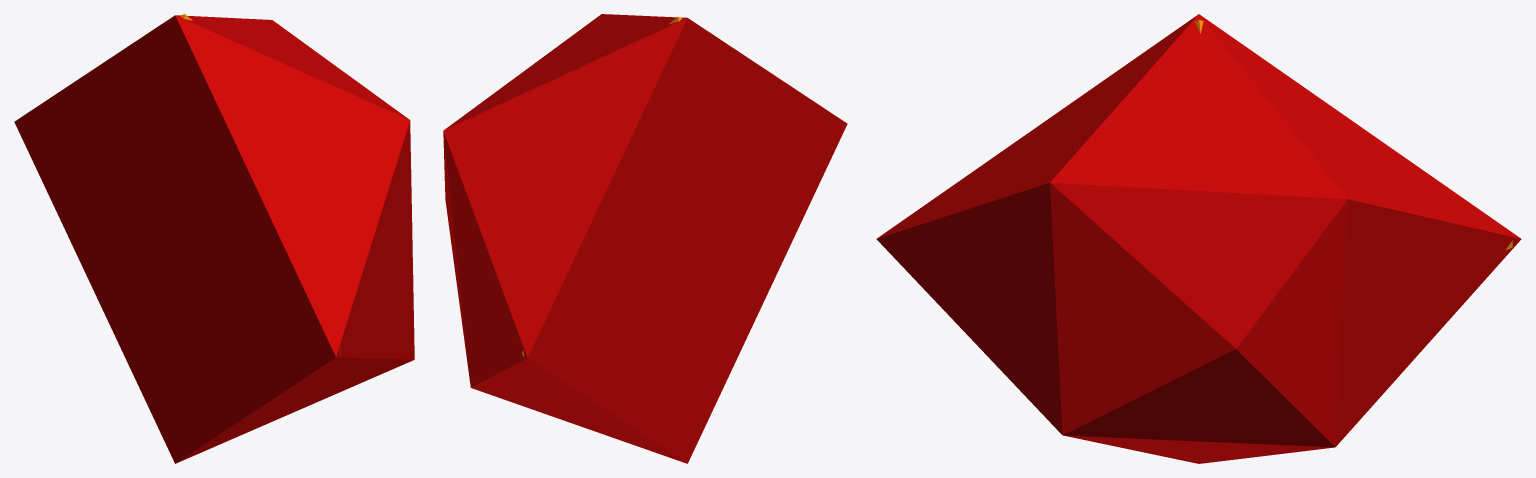
The model's file is prism_half.glb.
3 views of the same model, side by side, from view 1: azimuth 30°, elevation 25°; view 2: azimuth 150°, elevation 25°; view 3: azimuth 270°, elevation 25° (orthographic).
Parts seen in each view (by area): view 1: prism_half; view 2: prism_half; view 3: prism_half.
Boxes of the visible parts, x1,y1,x2,y2 form: prism_half: [14, 14, 414, 463]; prism_half: [443, 14, 847, 463]; prism_half: [876, 14, 1521, 463].
Bounding box in the file's own units: 2.1 × 4 × 5.2.
